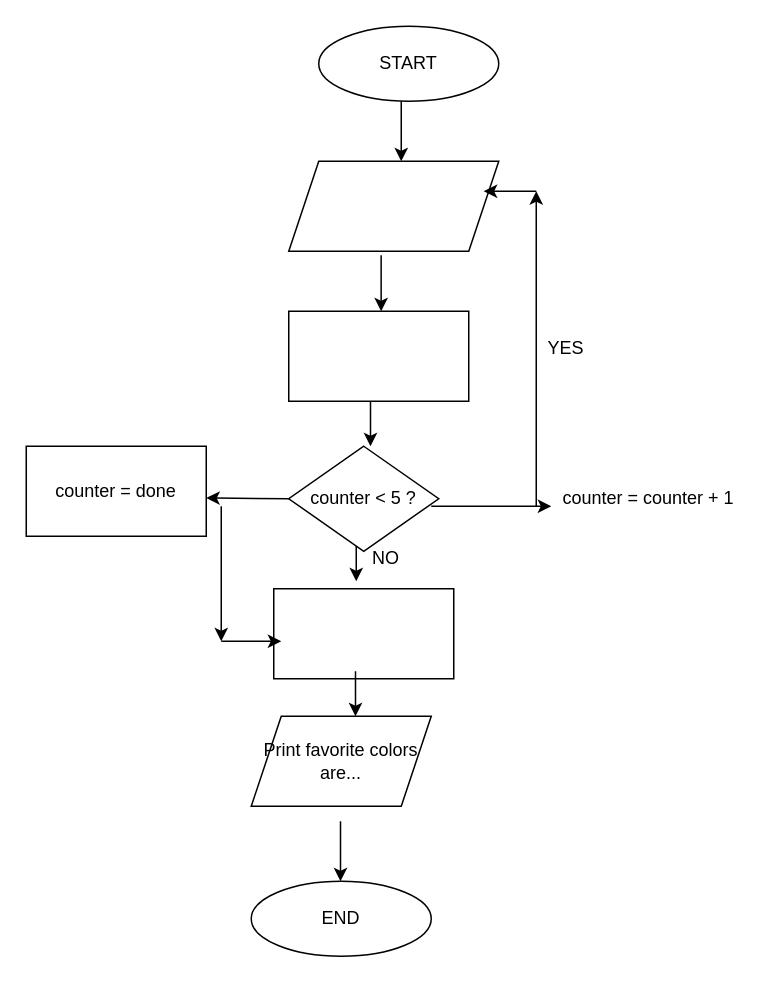
Image size: 773x983. Some labels were removed from this diagram. The centre of each missing label's shape, as x and y in pixels:
counter = 0: the point at 378,355
Input favorite color: the point at 393,205
Join colors together using the join function: the point at 363,633
